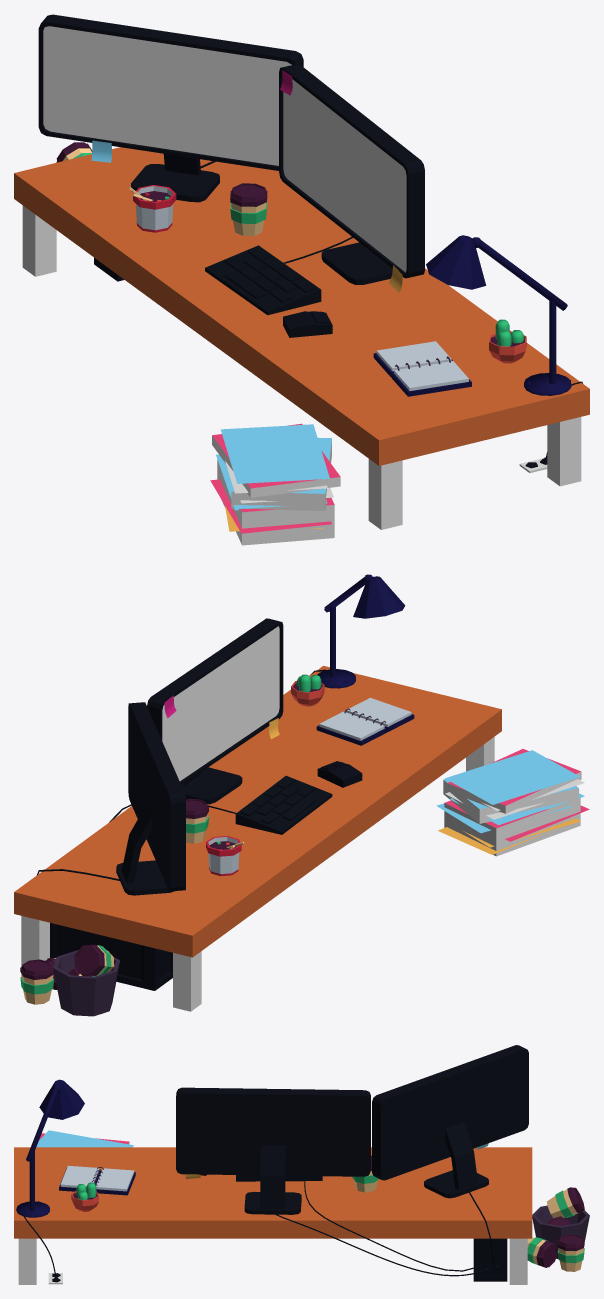
File: MainMenuDesk.fbx
The picture shows the model from 3 angles, top to bottom: view 1: azimuth 30°, elevation 25°; view 2: azimuth 150°, elevation 25°; view 3: azimuth 270°, elevation 25°; orthographic projection. The views are drawn at different scales.
Parts seen in each view (by area): view 1: Desk; view 2: Desk; view 3: Desk.
Boxes of the visible parts, x1,y1,x2,y2 form: Desk: (14,14,589,545); Desk: (14,574,589,1016); Desk: (14,1045,589,1284).
Bounding box in the file's own units: 327 × 225 × 666.
